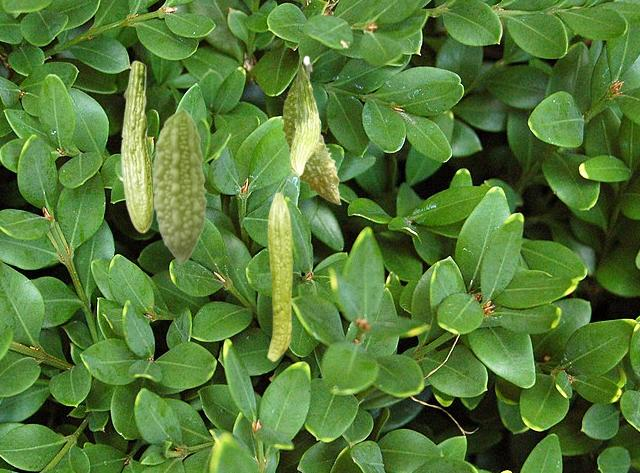ampalaya: (280, 55, 341, 205), (153, 107, 207, 265), (120, 60, 155, 233), (266, 192, 293, 362), (289, 55, 320, 178)
